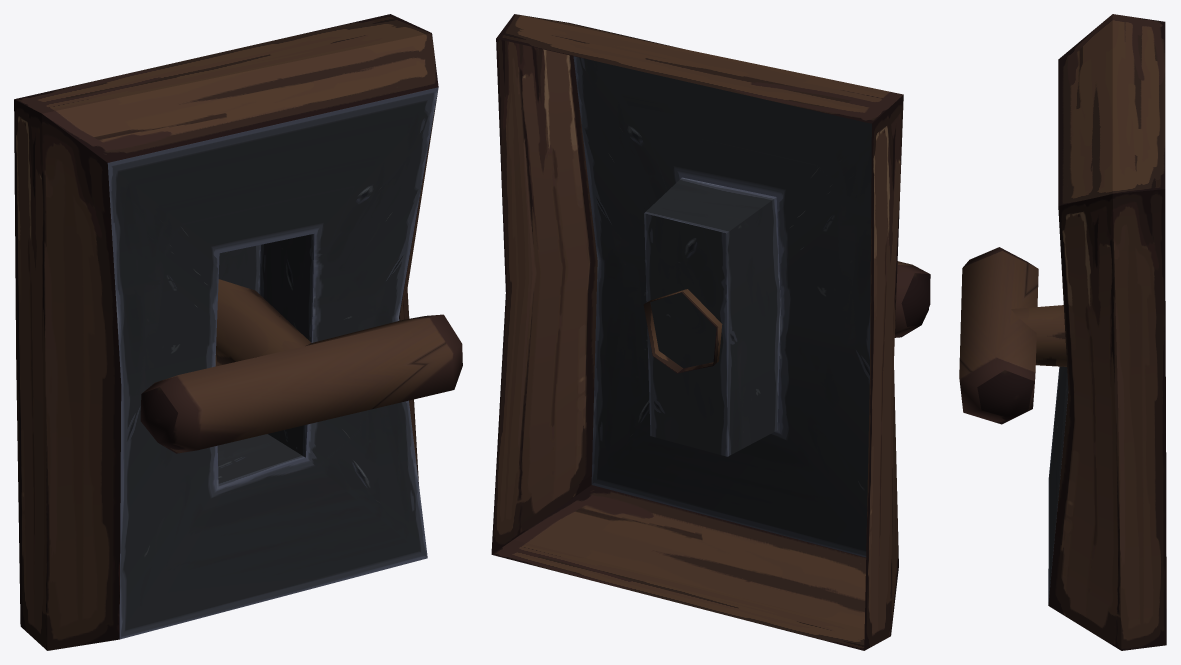
Rendered from SM_PROP_lever_dungeon_03.fbx.
3 renders of one model, left to right at view 1: azimuth 30°, elevation 25°; view 2: azimuth 150°, elevation 25°; view 3: azimuth 270°, elevation 25°, orthographic. The views are drawn at different scales.
Parts seen in each view (by area): view 1: SM_PROP_lever_dungeon_03, SM_PROP_lever_handle_dungeon_03; view 2: SM_PROP_lever_dungeon_03, SM_PROP_lever_handle_dungeon_03; view 3: SM_PROP_lever_dungeon_03, SM_PROP_lever_handle_dungeon_03.
Part boxes in pixels (<box>): SM_PROP_lever_dungeon_03: <box>14,14,438,650</box>; SM_PROP_lever_handle_dungeon_03: <box>140,279,462,453</box>; SM_PROP_lever_dungeon_03: <box>491,14,903,650</box>; SM_PROP_lever_handle_dungeon_03: <box>643,261,930,373</box>; SM_PROP_lever_dungeon_03: <box>1048,14,1166,650</box>; SM_PROP_lever_handle_dungeon_03: <box>959,247,1066,424</box>.
Size of the model in its own units: 40.51 by 53.81 by 21.23.
